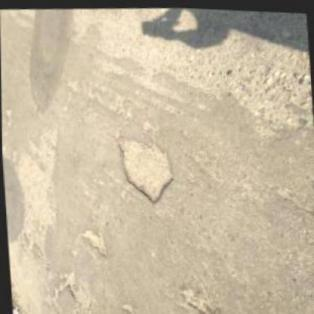Hueco: (113, 129, 175, 205), (176, 283, 214, 313), (78, 225, 107, 257), (57, 266, 78, 298)
